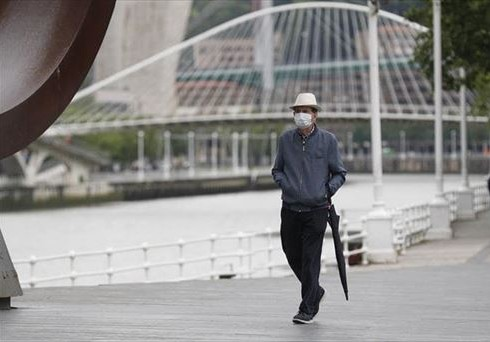with_mask: (291, 100, 319, 133)
